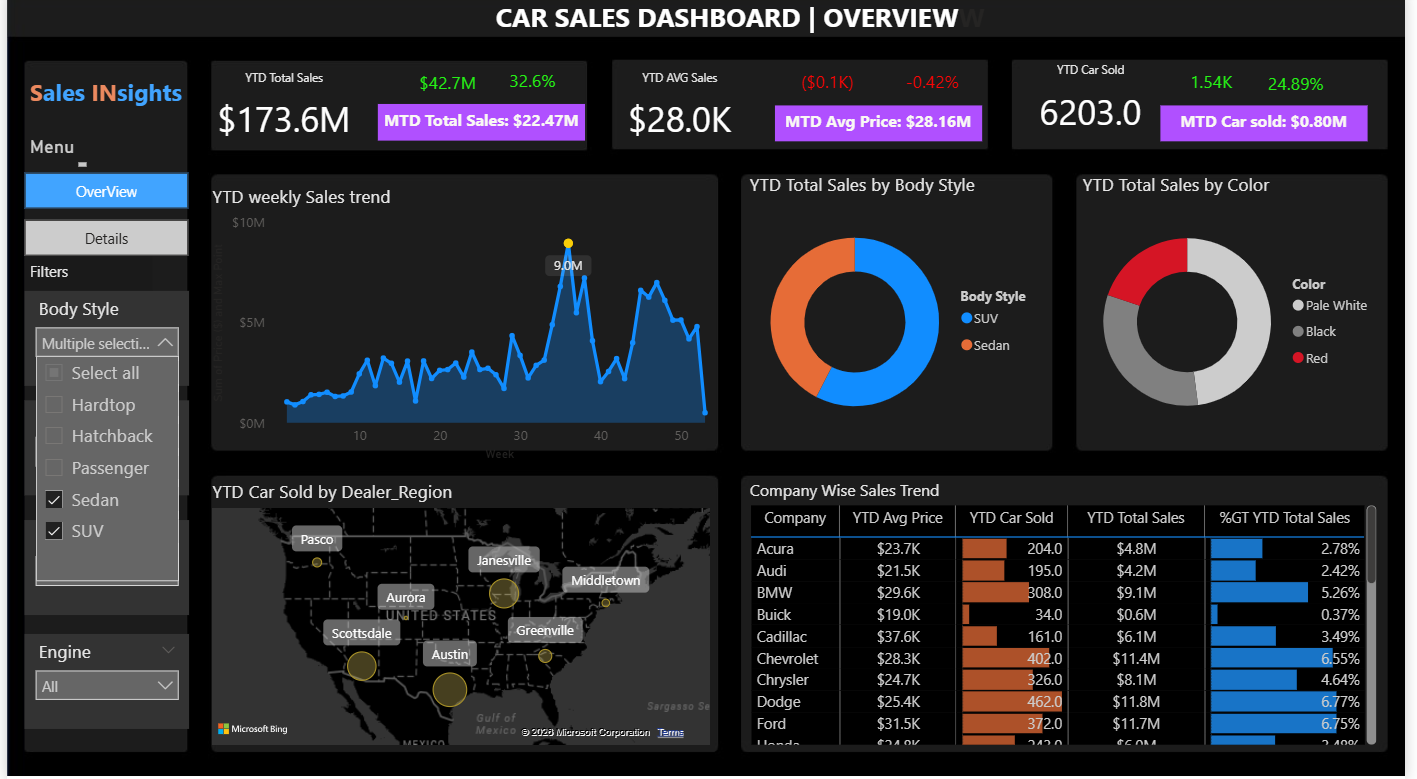

The dashboard page shown, as its layout file describes it:
{"tool":"powerbi","page":{"name":"OverView ","canvas":[1280,720],"ordinal":0},"visuals":[{"type":"card","title":"YTD Total Sales","fields":{"Values":["car_data.YTD Total Sales"]},"box":[166.7,70,173.3,78.3],"z":0},{"type":"card","fields":{"Values":["car_data.Sales Diffrence"]},"box":[355,65,96.7,36.7],"z":1000},{"type":"card","fields":{"Values":["car_data.YTY total Growth"]},"box":[433.3,68.3,96.7,28.3],"z":2000},{"type":"card","fields":{"Values":["car_data.MTD KPI"]},"box":[340,101.7,190,33.3],"z":3000},{"type":"card","title":"YTD AVG Sales","fields":{"Values":["car_data.YTD Avg Car Price"]},"box":[530,70,173.3,78.3],"z":4000},{"type":"card","fields":{"Values":["car_data.Avg Price Diff"]},"box":[703.3,60,96.7,46.7],"z":5000},{"type":"card","fields":{"Values":["car_data.YOY Avg Price Growth"]},"box":[798.9,60.2,96.3,46.6],"z":6000},{"type":"card","title":"MTD Avg Price","fields":{"Values":["car_data.MTD Avg Price KPI"]},"box":[702.6,102.3,189.6,33.1],"z":7000},{"type":"card","title":"YTD Car Sold","fields":{"Values":["car_data.YTD Car Sold"]},"box":[905.7,63.2,174.5,78.2],"z":8000},{"type":"card","fields":{"Values":["car_data.Diff b/w Car Sold"]},"box":[1054.7,60.2,96.3,46.6],"z":9000},{"type":"card","fields":{"Values":["car_data.YOY Car sold growth"]},"box":[1132.9,61.7,96.3,46.6],"z":10000},{"type":"card","title":"MTD Avg Price","fields":{"Values":["car_data.MTD Car Sold KPI"]},"box":[1056.2,102.3,189.6,33.1],"z":11000},{"type":"areaChart","title":"YTD weekly Sales trend","fields":{"Y":["Sum(car_data.Price ($))","car_data.Max Point"],"Category":["Calendar Table.Week"]},"box":[183.1,175.1,478.6,258],"z":12000},{"type":"donutChart","fields":{"Category":["car_data.Body Style"],"Y":["car_data.YTD Total Sales"]},"box":[675.5,164,279.8,252.8],"z":13000},{"type":"donutChart","fields":{"Y":["car_data.YTD Total Sales"],"Category":["car_data.Color"]},"box":[979.4,164,279.8,252.8],"z":14000},{"type":"map","fields":{"Category":["car_data.Dealer_Region"],"Size":["car_data.YTD Car Sold"]},"box":[183.5,445.3,466.4,248.2],"z":15000},{"type":"tableEx","title":"Company Wise Sales Trend","fields":{"Values":["car_data.Company","car_data.YTD Avg Price","car_data.YTD Car Sold","car_data.YTD Total Sales1","car_data.YTD Total Sales"]},"box":[675.5,445.3,583.7,248.2],"z":16000},{"type":"textbox","box":[442.5,0,466.6,65.5],"z":17000},{"type":"slicer","fields":{"Values":["car_data.Body Style"]},"box":[16,272.9,151,87.1],"z":18000},{"type":"slicer","fields":{"Values":["car_data.Dealer_Region"]},"box":[16,373.1,151,87.1],"z":19000},{"type":"slicer","fields":{"Values":["car_data.Transmission"]},"box":[16,482,151,87.1],"z":20000},{"type":"slicer","fields":{"Values":["car_data.Engine"]},"box":[16,586.5,151,87.1],"z":21000},{"type":"textbox","box":[16.5,240.7,117.4,31.6],"z":22000},{"type":"textbox","title":"Menu","box":[16.5,130.9,61.7,33.1],"z":23000},{"type":"pageNavigator","box":[16.5,164,150.5,76.7],"z":24000},{"type":"textbox","box":[16.5,70.7,150.5,45.1],"z":25000}]}

Visuals, with their boxes in screenshot pixels (x1, y1, x2, y2), scaled from the page's 1280x720 canvas onto the 1417x779 screenshot:
"YTD Total Sales" card: select_region(185, 76, 376, 160)
card - car_data.Sales Diffrence: select_region(393, 70, 500, 110)
card - car_data.YTY total Growth: select_region(480, 74, 587, 105)
card - car_data.MTD KPI: select_region(376, 110, 587, 146)
"YTD AVG Sales" card: select_region(587, 76, 779, 160)
card - car_data.Avg Price Diff: select_region(779, 65, 886, 115)
card - car_data.YOY Avg Price Growth: select_region(884, 65, 991, 116)
"MTD Avg Price" card: select_region(778, 111, 988, 146)
"YTD Car Sold" card: select_region(1003, 68, 1196, 153)
card - car_data.Diff b/w Car Sold: select_region(1168, 65, 1274, 116)
card - car_data.YOY Car sold growth: select_region(1254, 67, 1361, 117)
"MTD Avg Price" card: select_region(1169, 111, 1379, 146)
"YTD weekly Sales trend" areaChart: select_region(203, 189, 733, 469)
donutChart - car_data.Body Style x car_data.YTD Total Sales: select_region(748, 177, 1058, 451)
donutChart - car_data.YTD Total Sales x car_data.Color: select_region(1084, 177, 1394, 451)
map - car_data.Dealer_Region x car_data.YTD Car Sold: select_region(203, 482, 719, 750)
"Company Wise Sales Trend" tableEx: select_region(748, 482, 1394, 750)
textbox: select_region(490, 0, 1006, 71)
slicer - car_data.Body Style: select_region(18, 295, 185, 390)
slicer - car_data.Dealer_Region: select_region(18, 404, 185, 498)
slicer - car_data.Transmission: select_region(18, 521, 185, 616)
slicer - car_data.Engine: select_region(18, 635, 185, 729)
textbox: select_region(18, 260, 148, 295)
"Menu" textbox: select_region(18, 142, 87, 177)
pageNavigator: select_region(18, 177, 185, 260)
textbox: select_region(18, 76, 185, 125)
